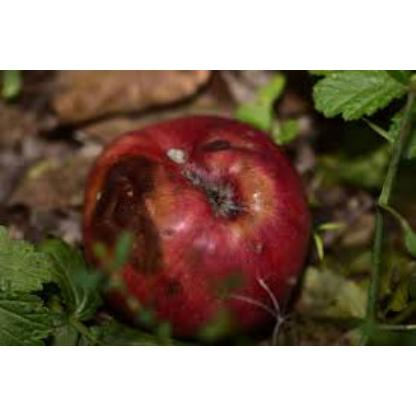damaged_apple: (82, 118, 306, 336)
